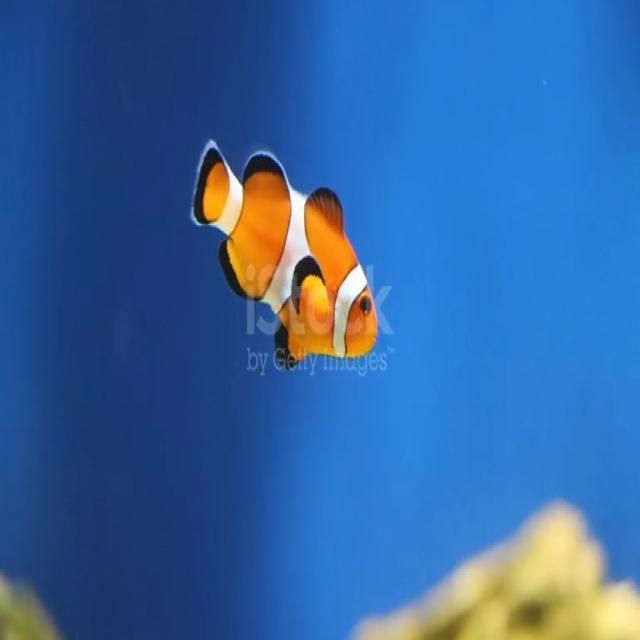fish: (189, 132, 380, 370)
